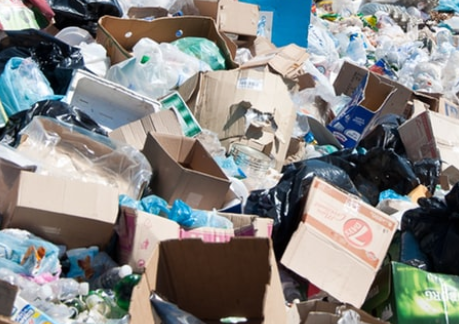garbage: (2, 3, 458, 323)
